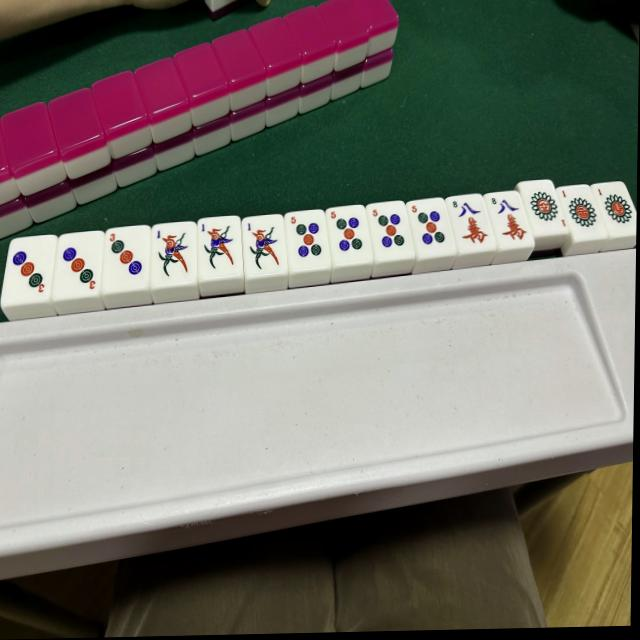m8: (489, 193, 530, 247), (448, 196, 489, 249)
s1: (153, 224, 195, 281), (198, 218, 238, 272), (245, 218, 285, 270)
t1: (598, 185, 637, 231), (527, 182, 565, 229), (561, 187, 598, 233)
t3: (8, 236, 51, 300), (58, 233, 101, 295), (106, 226, 149, 284)
t5: (288, 213, 327, 265), (329, 207, 368, 258), (410, 201, 447, 251), (371, 206, 407, 255)
